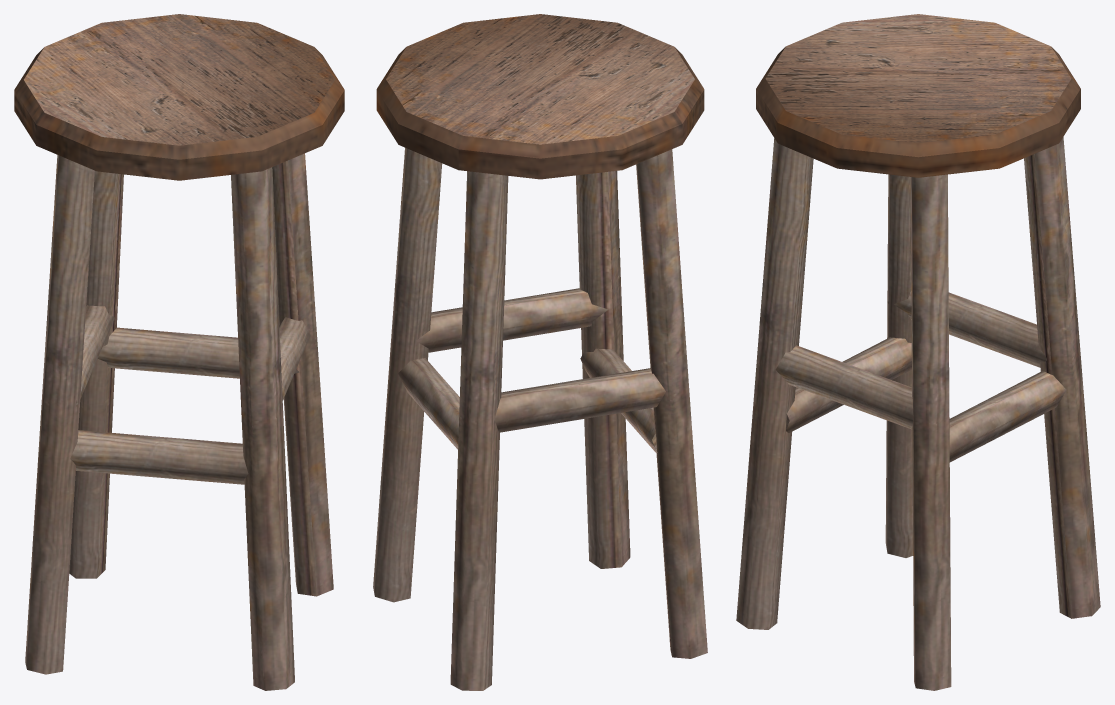
The model's file is BancoTaller.FBX.
The picture shows the model from 3 angles, left to right: view 1: azimuth 30°, elevation 25°; view 2: azimuth 150°, elevation 25°; view 3: azimuth 270°, elevation 25°; orthographic projection.
Visible parts, largest first — view 1: Piso; view 2: Piso; view 3: Piso.
Part boxes in pixels (x1,y1,x2,y2): Piso: (14,14,344,690); Piso: (373,14,707,690); Piso: (736,14,1100,690).
Bounding box in the file's own units: 14.16 × 23.12 × 14.16.
